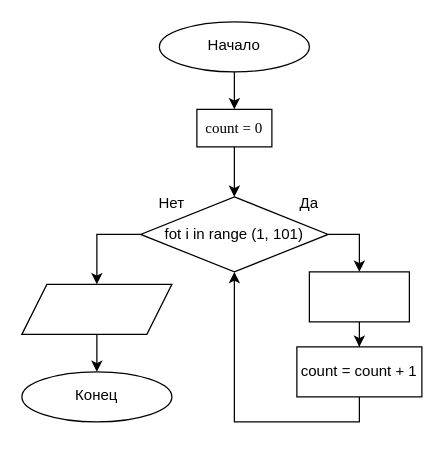
The diagram is 444 pixels wide and 454 high, and some of its shapes have lost their labels. Here are the shapes that lost their labels. From the top down, the box of each, then its label:
(21, 283, 172, 334): print(count)
(308, 271, 409, 322): i % 2 = 0
